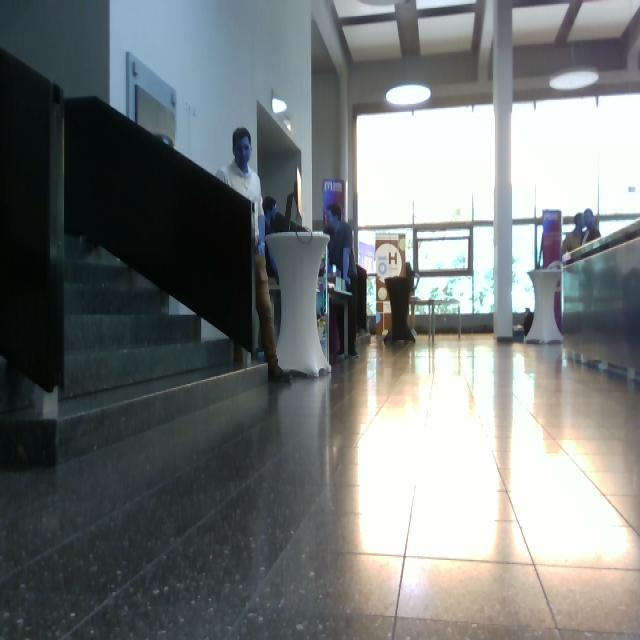light bulb: (385, 2, 432, 108), (549, 41, 600, 92), (549, 66, 599, 92), (386, 84, 432, 106), (272, 97, 292, 132), (356, 1, 402, 14), (272, 97, 288, 114)
person: (215, 128, 293, 384), (325, 202, 360, 357), (581, 209, 602, 246)
pillar: (492, 1, 515, 341)
table: (264, 229, 335, 382)
tiled floor: (1, 329, 640, 638)
